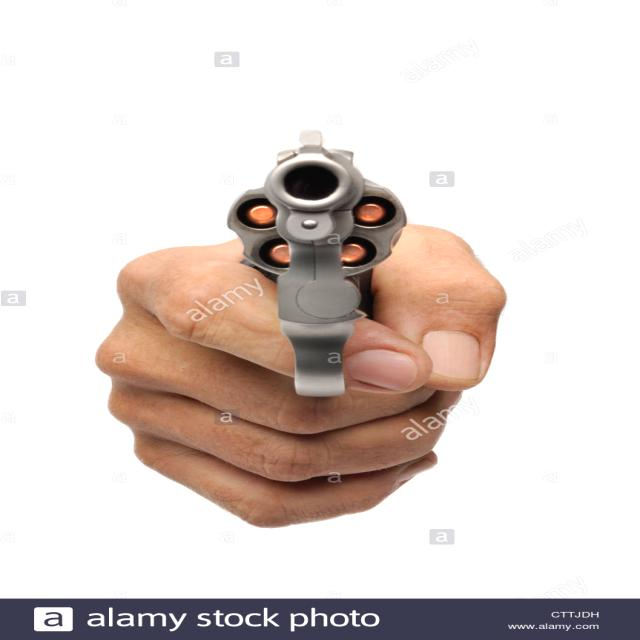pistol: (212, 122, 409, 416)
